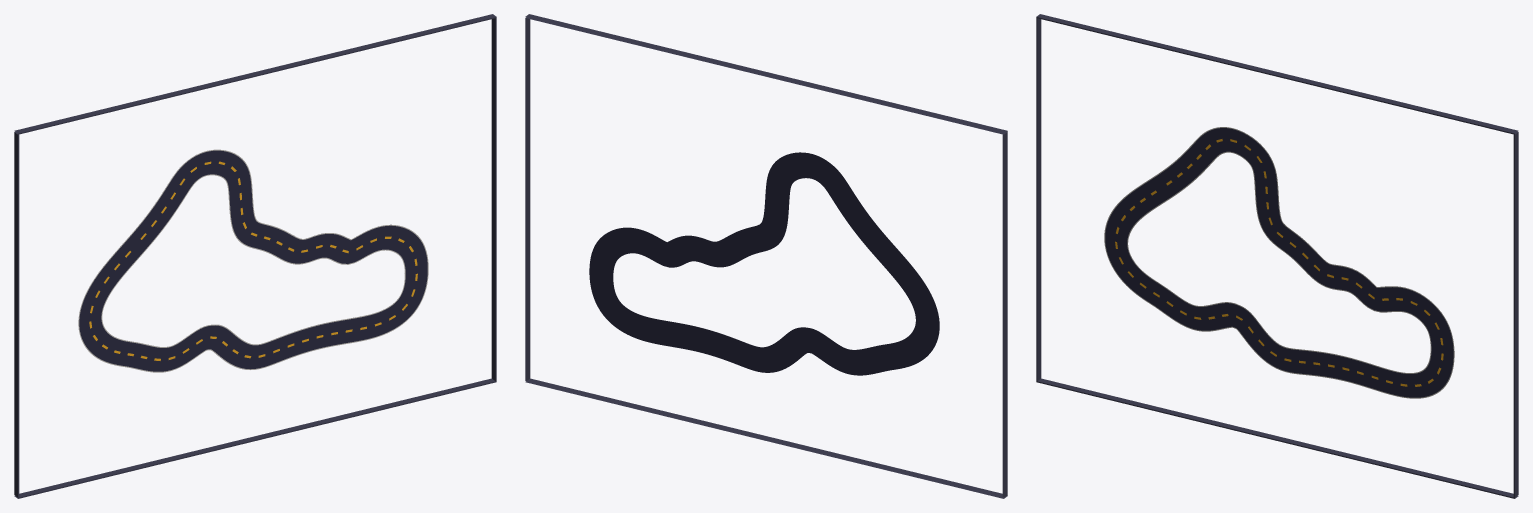
Rendered from track.obj.
3 views of the same model, side by side, from view 1: azimuth 30°, elevation 25°; view 2: azimuth 150°, elevation 25°; view 3: azimuth 330°, elevation 25° (orthographic).
Bounding box in the file's own units: 21.37 × 15.59 × 0.3.
4 materials, 4 textured.
